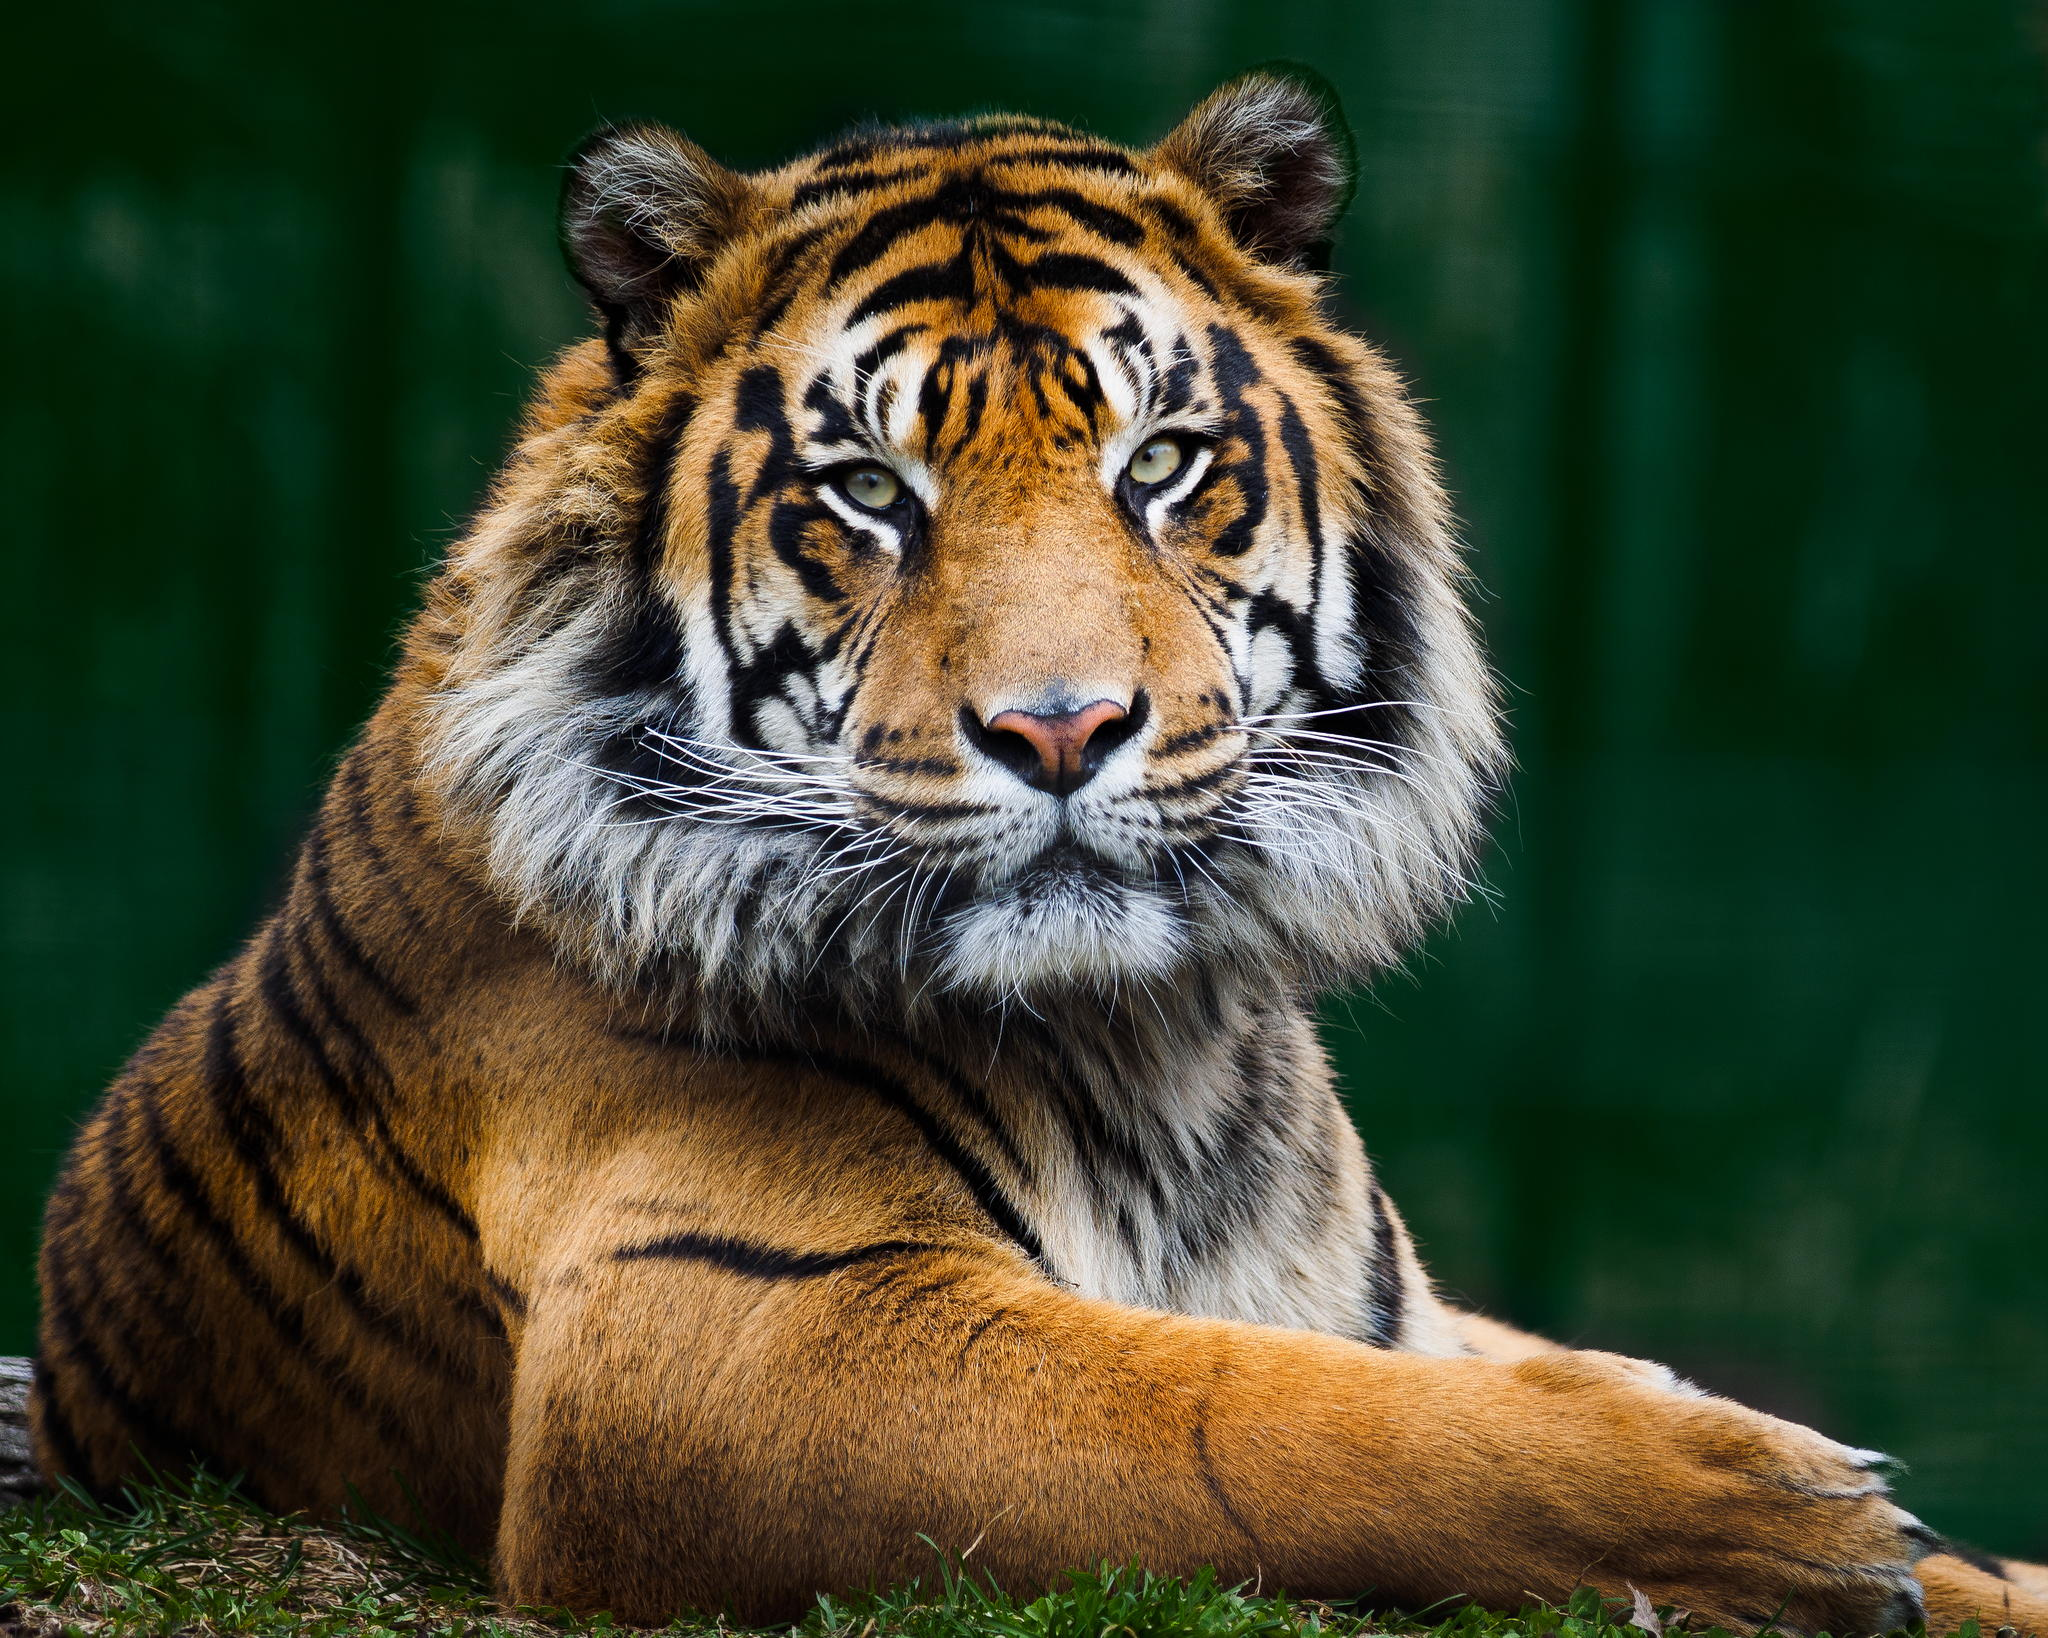tiger: (249, 77, 1919, 1568)
